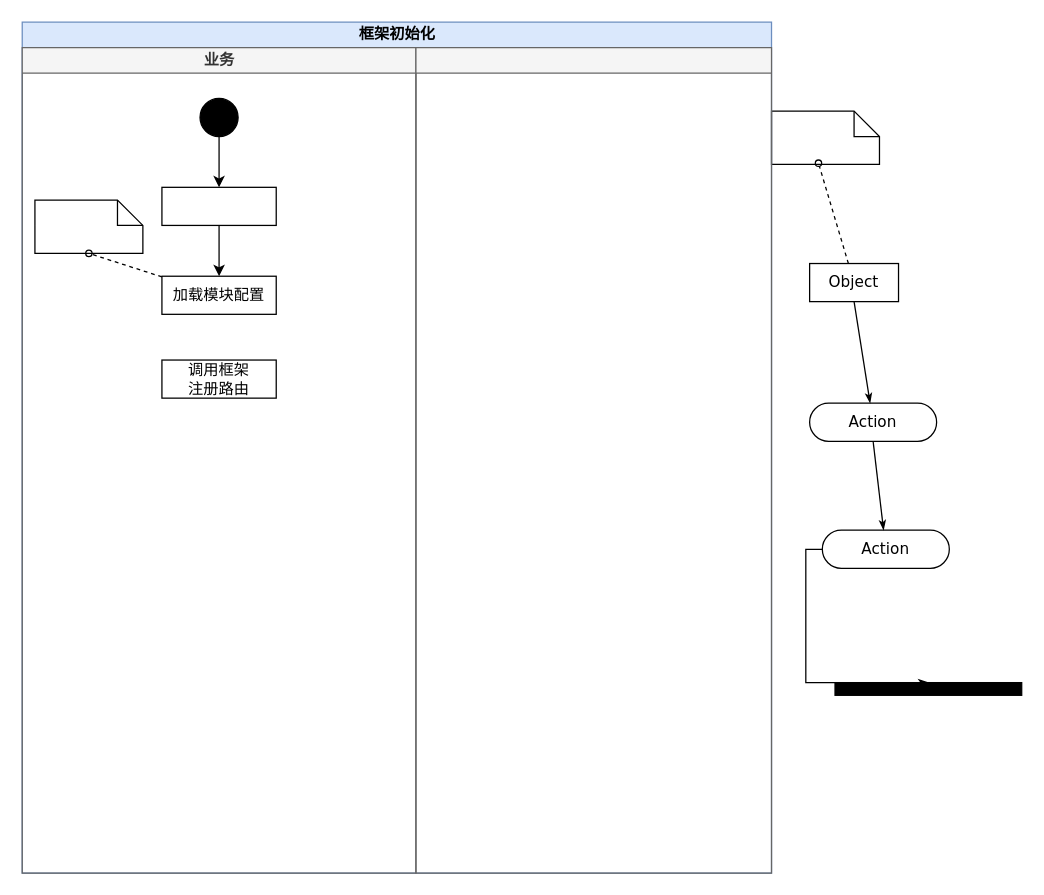
This 1044x895 diagram has some shape labels left out. The shapes that lost their labels are listed below. From the top down, each one's centre as x and y in pixels, then its label:
At pixel 824 137: "Note".
At pixel 218 205: "生成业务模块加载器loader".
At pixel 88 226: "routes.json".
At pixel 593 459: "框架".
